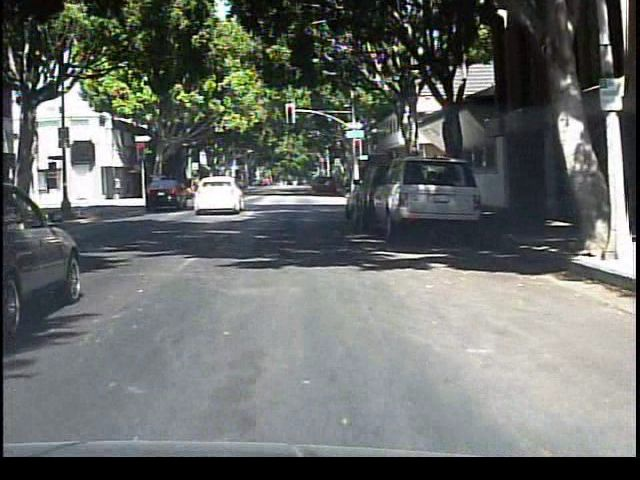person: (186, 169, 211, 211)
